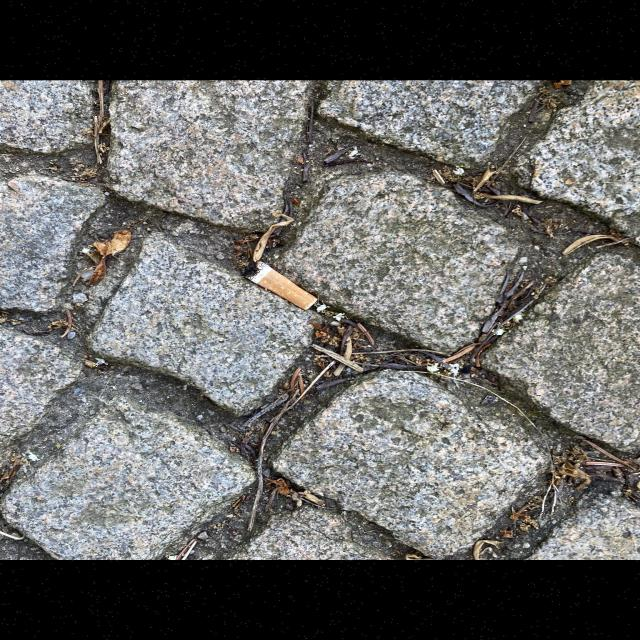other waste: (244, 260, 318, 310)
